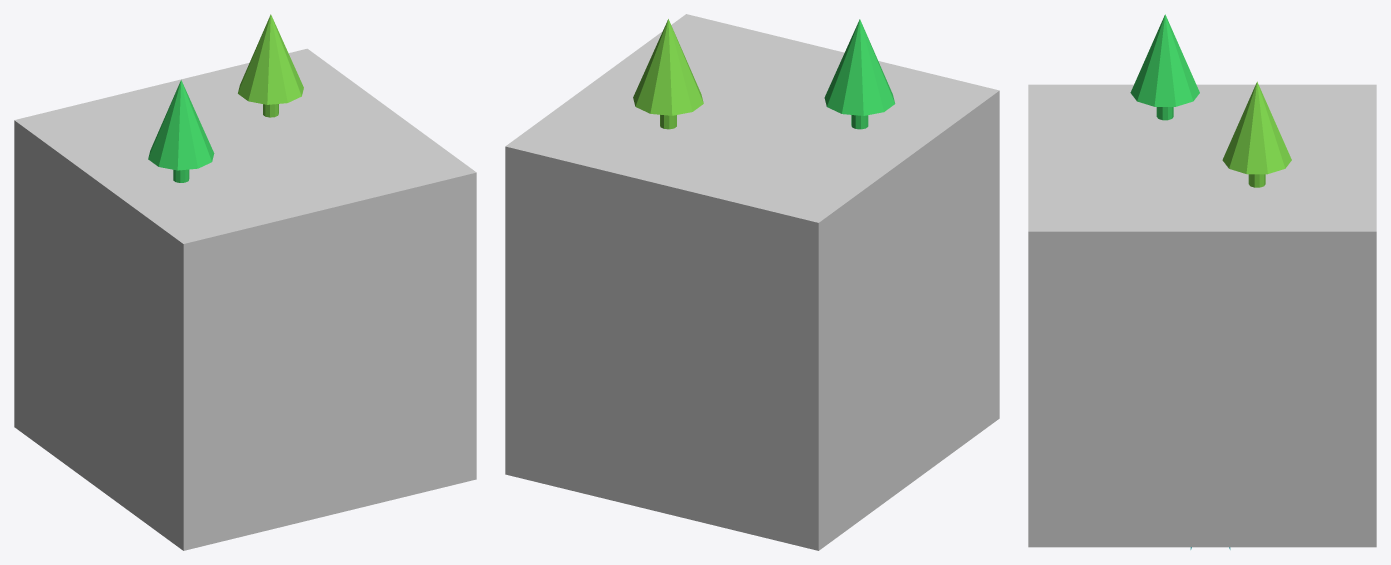
File: world2test.glb
3 renders of one model, left to right at view 1: azimuth 30°, elevation 25°; view 2: azimuth 150°, elevation 25°; view 3: azimuth 270°, elevation 25°, orthographic. The views are drawn at different scales.
Visible parts, largest first — view 1: World, Tree.001, Tree; view 2: World, Tree.001, Tree; view 3: World, Tree, Tree.001.
Boxes of the visible parts, left/top/right/bottom form: World: left=14, top=48, right=476, bottom=550; Tree.001: left=148, top=80, right=214, bottom=182; Tree: left=238, top=14, right=303, bottom=117; World: left=505, top=14, right=999, bottom=550; Tree.001: left=824, top=19, right=895, bottom=129; Tree: left=633, top=19, right=703, bottom=129; World: left=1028, top=84, right=1376, bottom=547; Tree: left=1222, top=81, right=1291, bottom=187; Tree.001: left=1130, top=14, right=1199, bottom=120.
Size of the model in its own units: 0.6604 by 0.9845 by 0.6604.
